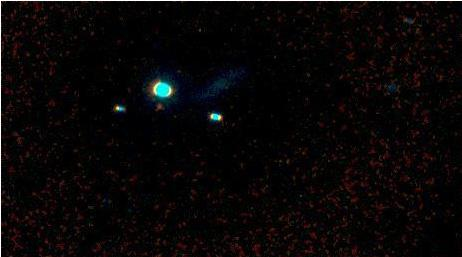star: (144, 88, 174, 118)
